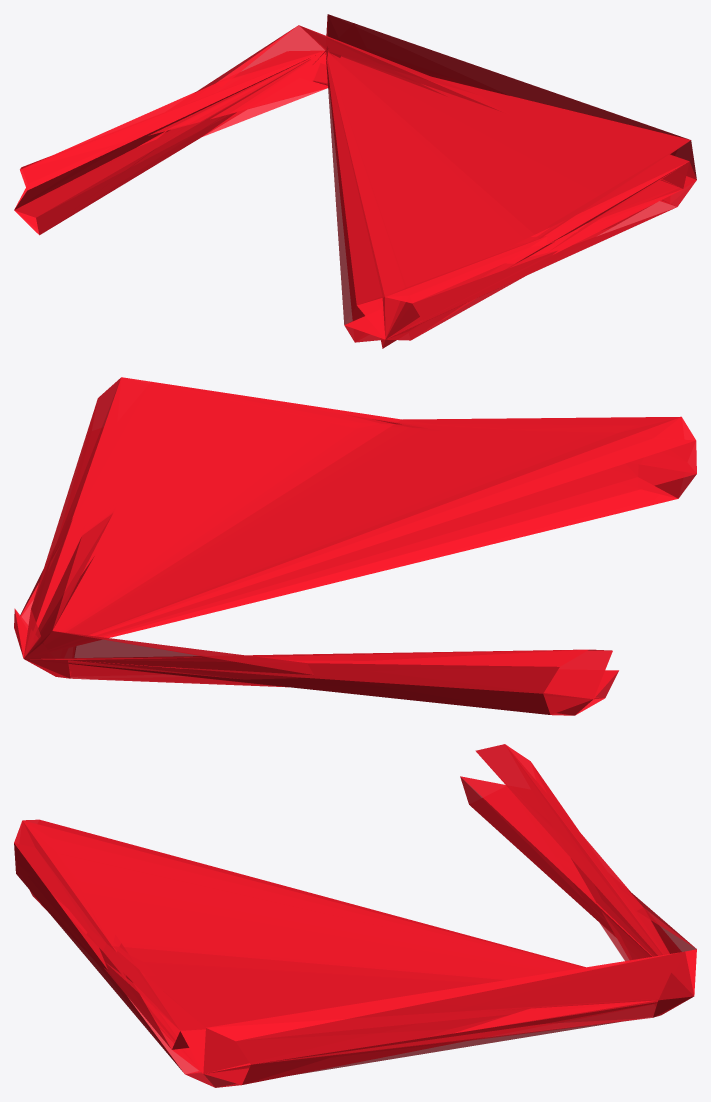
File: S.S._Dolphin_Chronos_Reactor_lights.001.obj
3 renders of one model, top to bottom at view 1: azimuth 30°, elevation 25°; view 2: azimuth 150°, elevation 25°; view 3: azimuth 270°, elevation 25°, orthographic. The views are drawn at different scales.
Parts seen in each view (by area): view 1: S.S._Dolphin_Chronos_Reactor_lights.001; view 2: S.S._Dolphin_Chronos_Reactor_lights.001; view 3: S.S._Dolphin_Chronos_Reactor_lights.001.
Boxes of the visible parts, x1,y1,x2,y2 form: S.S._Dolphin_Chronos_Reactor_lights.001: [14, 14, 696, 348]; S.S._Dolphin_Chronos_Reactor_lights.001: [14, 377, 696, 715]; S.S._Dolphin_Chronos_Reactor_lights.001: [14, 744, 696, 1087].
Bounding box in the file's own units: 3.93 × 0.4363 × 3.91.
